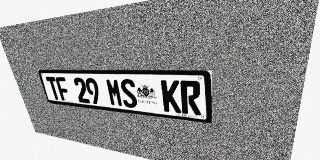2: (73, 77, 90, 103)
9: (84, 78, 102, 105)
F: (55, 77, 71, 101)
K: (161, 80, 181, 113)
M: (105, 78, 124, 107)
R: (180, 80, 201, 115)
S: (119, 79, 138, 109)
T: (45, 77, 62, 100)
